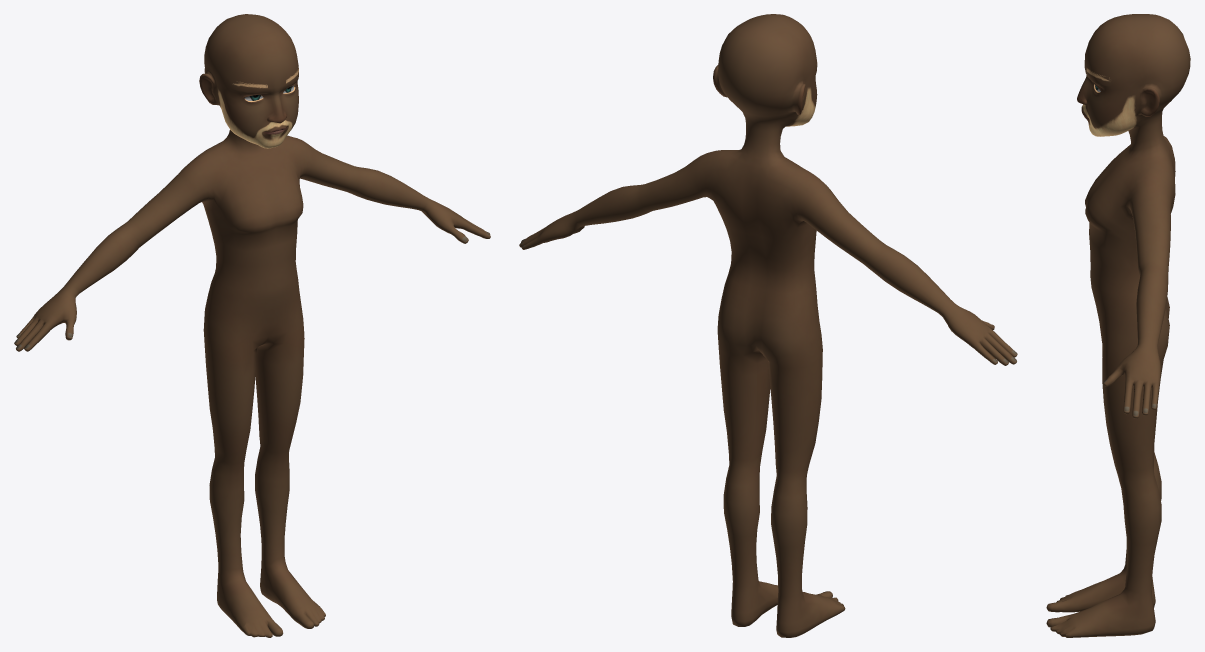
Rendered from frame_0061.glb.
The picture shows the model from 3 angles, left to right: view 1: azimuth 30°, elevation 25°; view 2: azimuth 150°, elevation 25°; view 3: azimuth 270°, elevation 25°; orthographic projection. The views are drawn at different scales.
Visible parts, largest first — view 1: frame_0061_head_geo; view 2: frame_0061_head_geo; view 3: frame_0061_head_geo.
Part boxes in pixels (box(x1,y1,x2,y2)): frame_0061_head_geo: box(14, 14, 490, 637); frame_0061_head_geo: box(519, 14, 1017, 637); frame_0061_head_geo: box(1046, 14, 1190, 637).
Size of the model in its own units: 1.28 by 1.5 by 0.3253.
3 materials, 3 textured.
